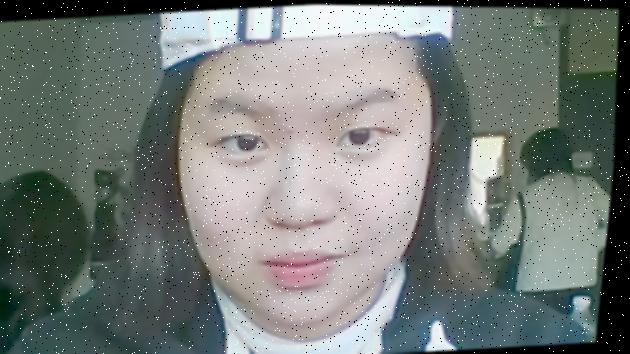eye: (239, 129, 263, 149), (351, 123, 372, 143)
iris: (219, 132, 272, 157), (337, 126, 386, 148)
